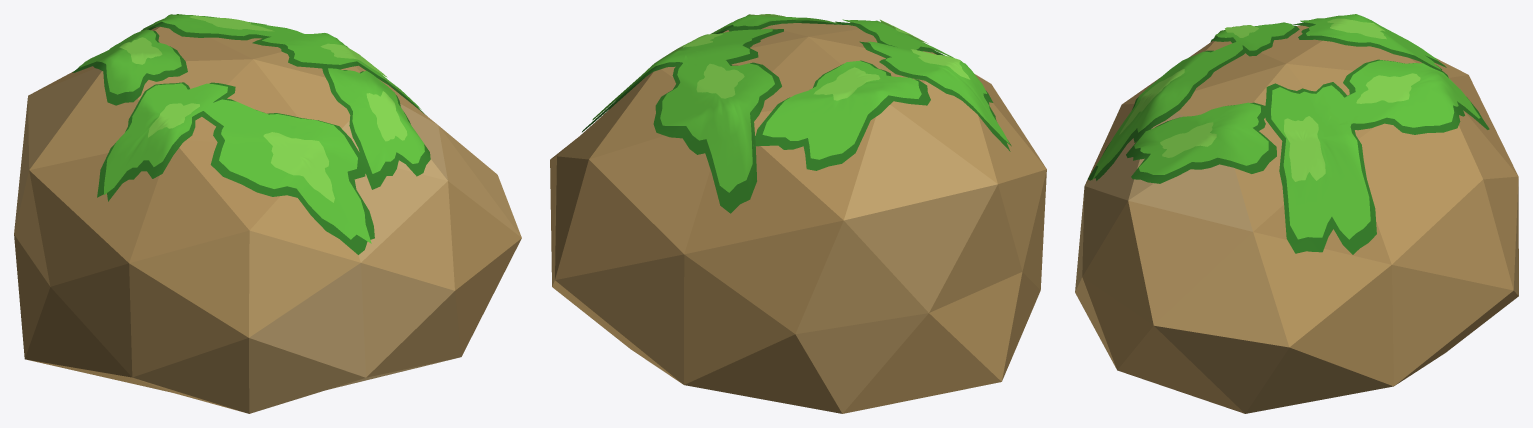
Rendered from rock_2_rim.glb.
3 views of the same model, side by side, from view 1: azimuth 30°, elevation 25°; view 2: azimuth 150°, elevation 25°; view 3: azimuth 270°, elevation 25° (orthographic). The views are drawn at different scales.
Visible parts, largest first — view 1: rock_2_rim; view 2: rock_2_rim; view 3: rock_2_rim.
Boxes of the visible parts, x1,y1,x2,y2 form: rock_2_rim: (14, 14, 521, 413); rock_2_rim: (550, 14, 1046, 413); rock_2_rim: (1075, 14, 1518, 413).
Bounding box in the file's own units: 1.89 × 1.19 × 1.67.
